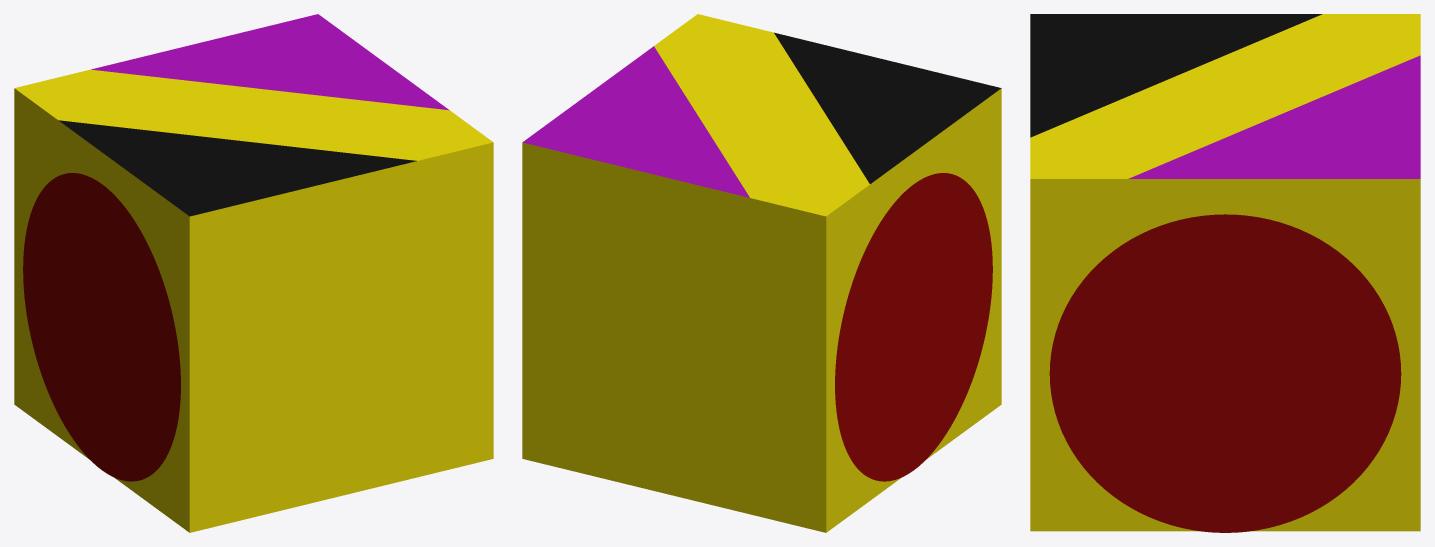
File: Yellow2.FBX
The picture shows the model from 3 angles, left to right: view 1: azimuth 30°, elevation 25°; view 2: azimuth 150°, elevation 25°; view 3: azimuth 270°, elevation 25°; orthographic projection. The views are drawn at different scales.
Parts seen in each view (by area): view 1: Body, WheelR; view 2: Body, WheelR; view 3: Body, WheelL.
Part boxes in pixels (box(x1,y1,x2,y2)): Body: box(14, 14, 493, 532); WheelR: box(23, 173, 180, 481); Body: box(522, 14, 1001, 532); WheelR: box(835, 173, 992, 481); Body: box(1030, 14, 1420, 531); WheelL: box(1049, 214, 1401, 532).
Bounding box in the file's own units: 7.87 × 7.87 × 7.87.
